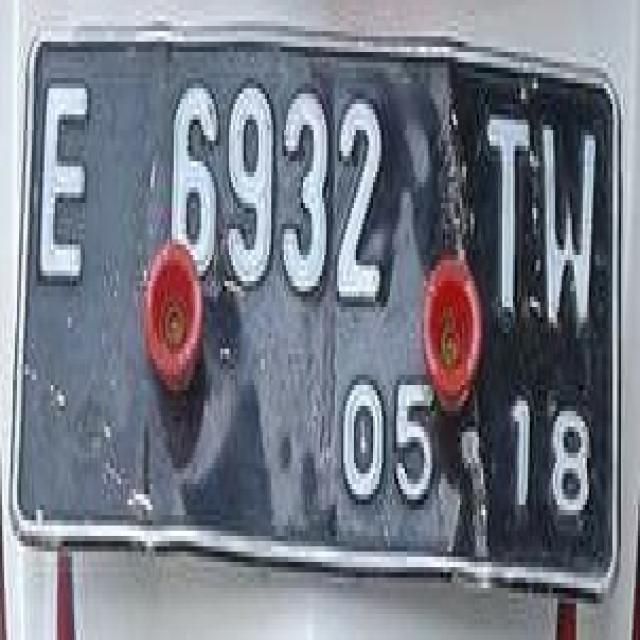plate: (13, 21, 625, 598)
